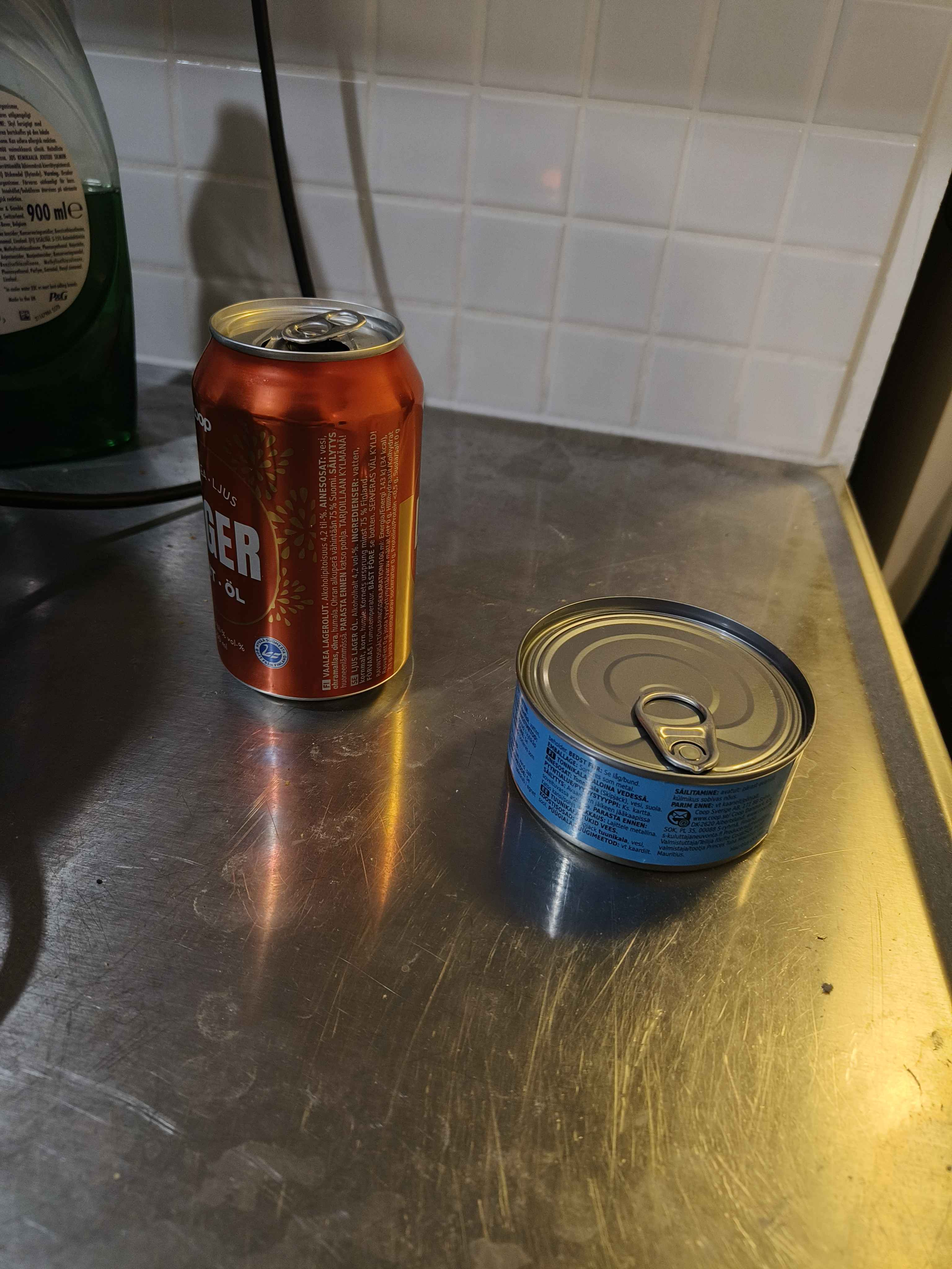Konservburk: (505, 595, 816, 873)
Pantburk: (191, 296, 425, 704)
